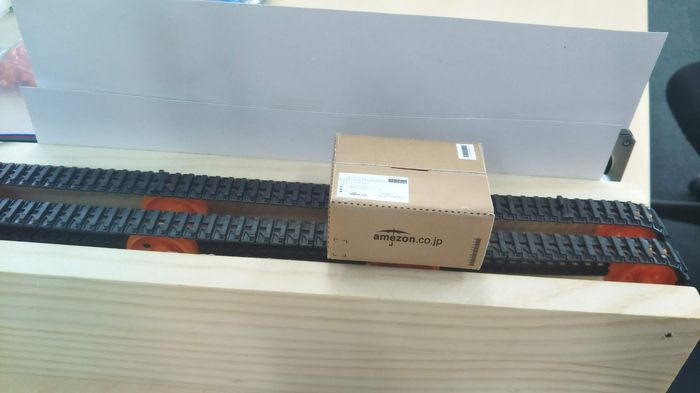box1: (324, 129, 497, 279)
